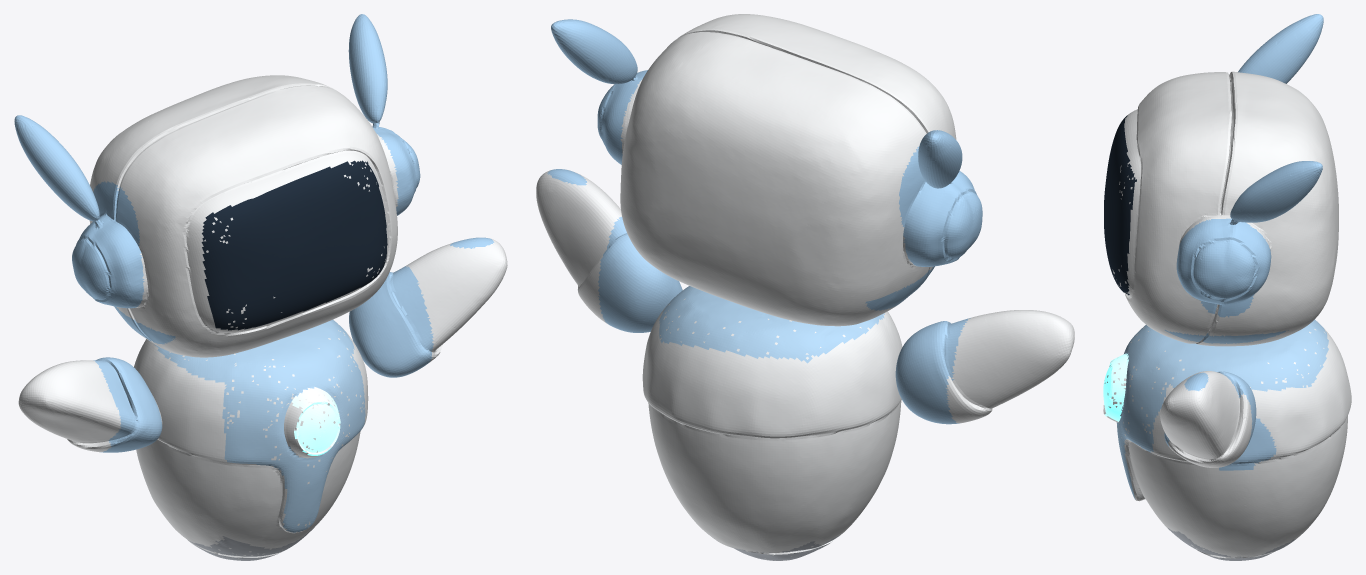
Rendered from Blue_Bot_COLORED_PREPARED.glb.
The picture shows the model from 3 angles, left to right: view 1: azimuth 30°, elevation 25°; view 2: azimuth 150°, elevation 25°; view 3: azimuth 270°, elevation 25°; orthographic projection. The views are drawn at different scales.
Visible parts, largest first — view 1: HeadShell, BodyShell, Visor, ChestBlue, HeadBlue, RightArmBlue, LeftArmWhite, RightArmWhite, LeftArmBlue, LogoSocket, BottomTrim; view 2: HeadShell, BodyShell, HeadBlue, LeftArmWhite, ChestBlue, RightArmWhite, LeftArmBlue, RightArmBlue, BottomTrim; view 3: HeadShell, BodyShell, HeadBlue, ChestBlue, RightArmWhite, Visor, RightArmBlue, LogoSocket, BottomTrim.
Part boxes in pixels (x1=…): HeadShell: x1=89, y1=75, x2=398, y2=339; BodyShell: x1=134, y1=291, x2=377, y2=559; Visor: x1=201, y1=160, x2=387, y2=330; ChestBlue: x1=154, y1=319, x2=365, y2=532; HeadBlue: x1=14, y1=14, x2=494, y2=308; RightArmBlue: x1=349, y1=266, x2=433, y2=377; LeftArmWhite: x1=18, y1=360, x2=120, y2=452; RightArmWhite: x1=406, y1=239, x2=507, y2=362; LeftArmBlue: x1=93, y1=306, x2=175, y2=452; LogoSocket: x1=291, y1=387, x2=340, y2=455; BottomTrim: x1=187, y1=522, x2=319, y2=560; HeadShell: x1=620, y1=14, x2=956, y2=306; BodyShell: x1=642, y1=256, x2=902, y2=560; HeadBlue: x1=547, y1=19, x2=982, y2=266; LeftArmWhite: x1=946, y1=310, x2=1074, y2=423; ChestBlue: x1=659, y1=286, x2=884, y2=363; RightArmWhite: x1=536, y1=169, x2=621, y2=323; LeftArmBlue: x1=865, y1=266, x2=970, y2=424; RightArmBlue: x1=598, y1=216, x2=682, y2=332; BottomTrim: x1=712, y1=533, x2=842, y2=560; HeadShell: x1=1112, y1=71, x2=1338, y2=336; BodyShell: x1=1103, y1=317, x2=1351, y2=558; HeadBlue: x1=1176, y1=14, x2=1323, y2=391; ChestBlue: x1=1116, y1=319, x2=1328, y2=499; RightArmWhite: x1=1160, y1=371, x2=1252, y2=467; Visor: x1=1104, y1=115, x2=1136, y2=295; RightArmBlue: x1=1164, y1=329, x2=1288, y2=470; LogoSocket: x1=1103, y1=353, x2=1128, y2=421; BottomTrim: x1=1168, y1=528, x2=1295, y2=560.
Size of the model in its own units: 0.3213 by 0.3 by 0.1442.
